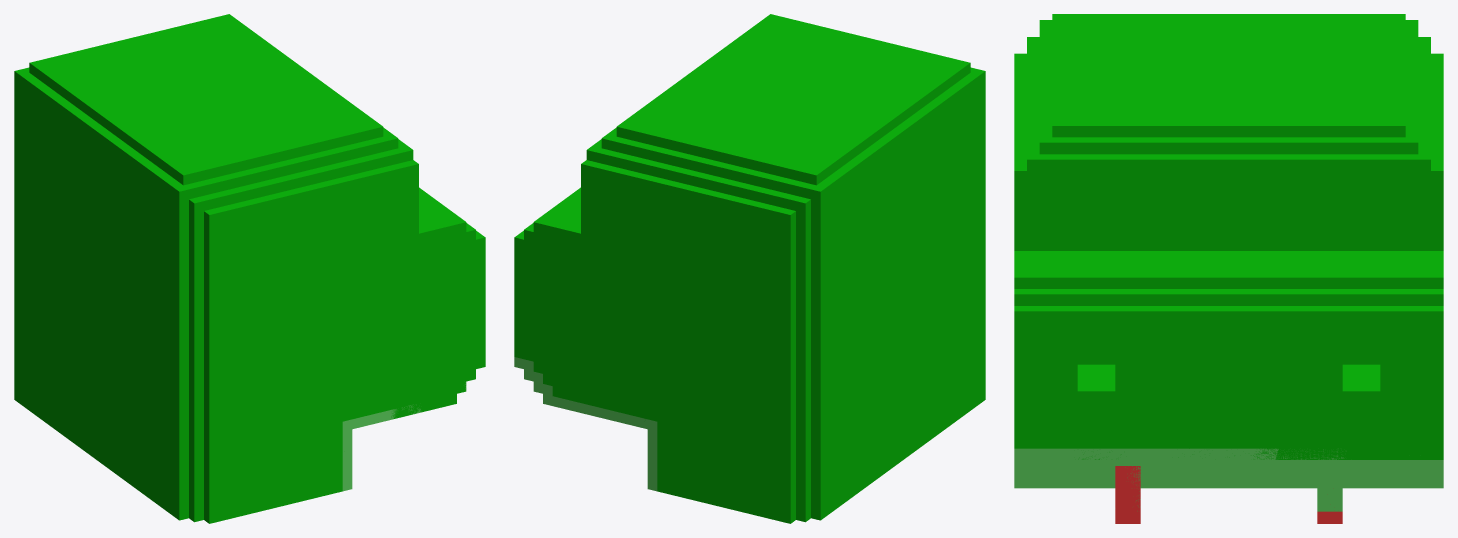
File: Head.fbx
3 views of the same model, side by side, from view 1: azimuth 30°, elevation 25°; view 2: azimuth 150°, elevation 25°; view 3: azimuth 270°, elevation 25° (orthographic). The views are drawn at different scales.
Visible parts, largest first — view 1: model_0, model_0_cell.005, model_0_cell.002, model_0_cell.001, model_0_cell.006, model_0_cell.003, model_0_cell.014, model_0_cell.004, model_0_cell.011, model_0_cell.010, model_0_cell.013, model_0_cell.008; view 2: model_0, model_0_cell.008, model_0_cell.012, model_0_cell.003, model_0_cell.006, model_0_cell.001, model_0_cell.009, model_0_cell.014, model_0_cell.010, model_0_cell.013, model_0_cell.011, model_0_cell.005; view 3: model_0, model_0_cell.006, model_0_cell.007, model_0_cell.008, model_0_cell, model_0_cell.002, model_0_cell.014, model_0_cell.009.
Part boxes in pixels (x1,y1,x2,y2): model_0: [14, 14, 484, 523]; model_0_cell.005: [143, 127, 413, 296]; model_0_cell.002: [360, 140, 485, 361]; model_0_cell.001: [119, 180, 275, 414]; model_0_cell.006: [184, 19, 353, 114]; model_0_cell.003: [84, 207, 153, 444]; model_0_cell.014: [95, 77, 247, 213]; model_0_cell.004: [391, 339, 485, 418]; model_0_cell.011: [152, 292, 392, 460]; model_0_cell.010: [79, 417, 158, 504]; model_0_cell.013: [151, 441, 209, 523]; model_0_cell.008: [15, 19, 207, 76]; model_0: [514, 14, 985, 523]; model_0_cell.008: [534, 132, 835, 375]; model_0_cell.012: [721, 344, 886, 523]; model_0_cell.003: [850, 181, 959, 416]; model_0_cell.006: [552, 35, 813, 213]; model_0_cell.001: [926, 91, 985, 328]; model_0_cell.009: [636, 357, 755, 515]; model_0_cell.014: [777, 69, 950, 264]; model_0_cell.010: [885, 366, 964, 456]; model_0_cell.013: [957, 340, 985, 414]; model_0_cell.011: [958, 294, 985, 359]; model_0_cell.005: [940, 63, 985, 111]; model_0: [1014, 14, 1443, 523]; model_0_cell.006: [1118, 76, 1424, 292]; model_0_cell.007: [1262, 274, 1443, 523]; model_0_cell.008: [1365, 14, 1443, 281]; model_0_cell: [1110, 280, 1321, 477]; model_0_cell.002: [1014, 147, 1245, 415]; model_0_cell.014: [1120, 14, 1228, 77]; model_0_cell.009: [1224, 478, 1443, 488].
Bounding box in the file's own units: 310 × 340 × 340.
